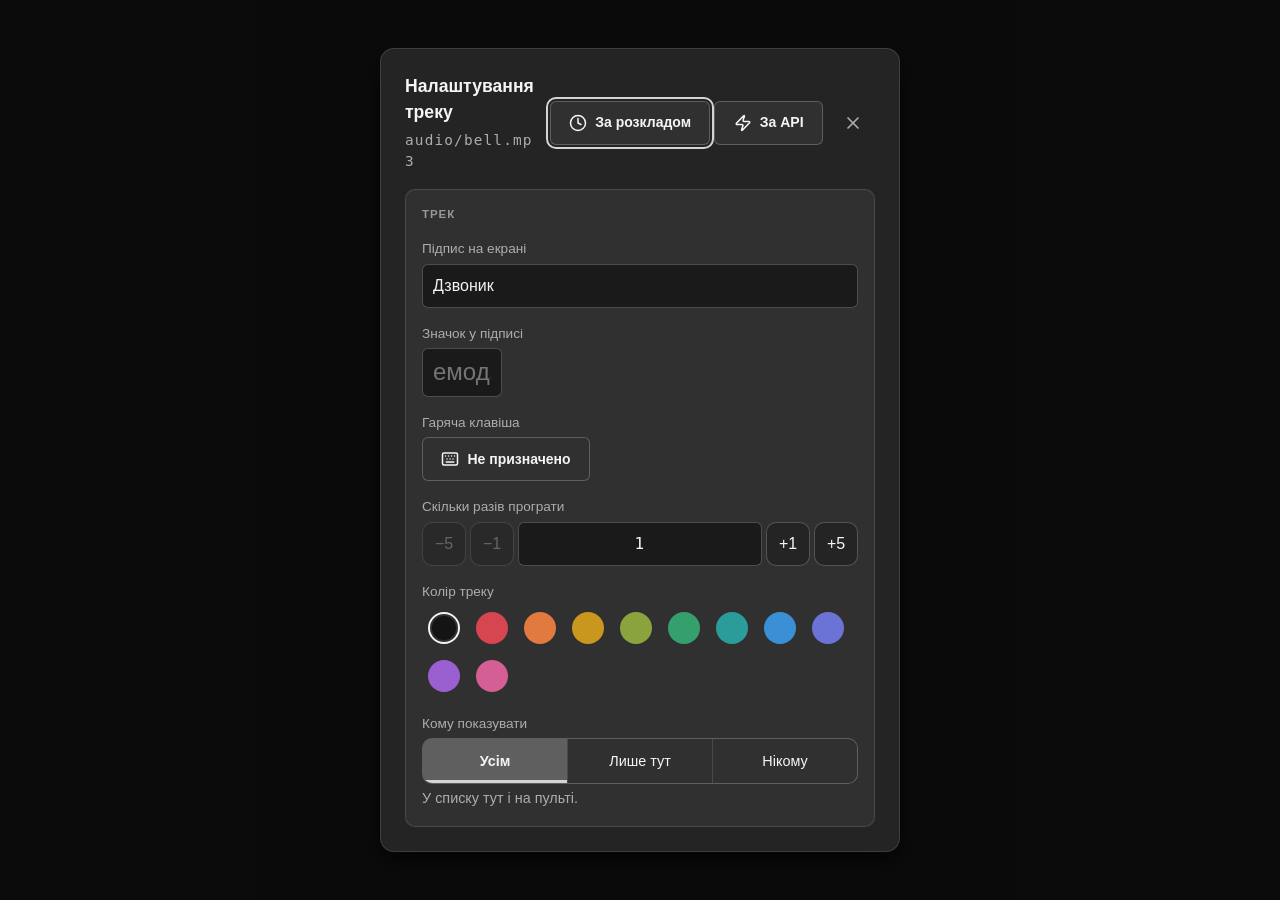
Test: TrackDialog › перемикає режим між розкладом і API через кнопки шапки
What coordinates should you click on to do the following:
click the button with test id "open-schedule-btn"
I would click on:
 (630, 123)
Its box is 550,101 -> 710,145.
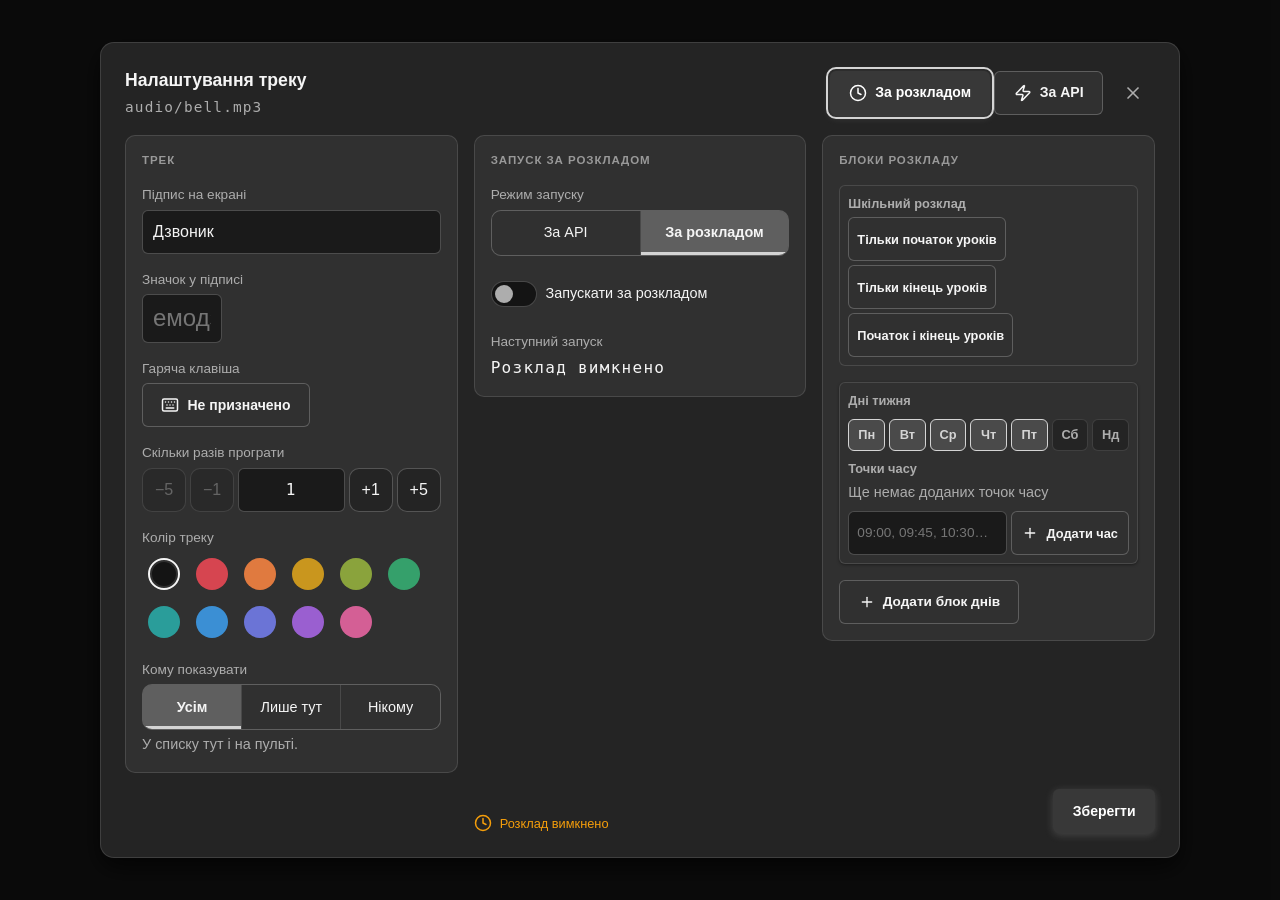
Now the element with test id "schedule-next-status" is shown, box 474,814 -> 609,832
What coordinates should you click on to do the following:
click the button with test id "open-trigger-btn"
I would click on:
 (1049, 93)
Its box is 994,71 -> 1103,115.
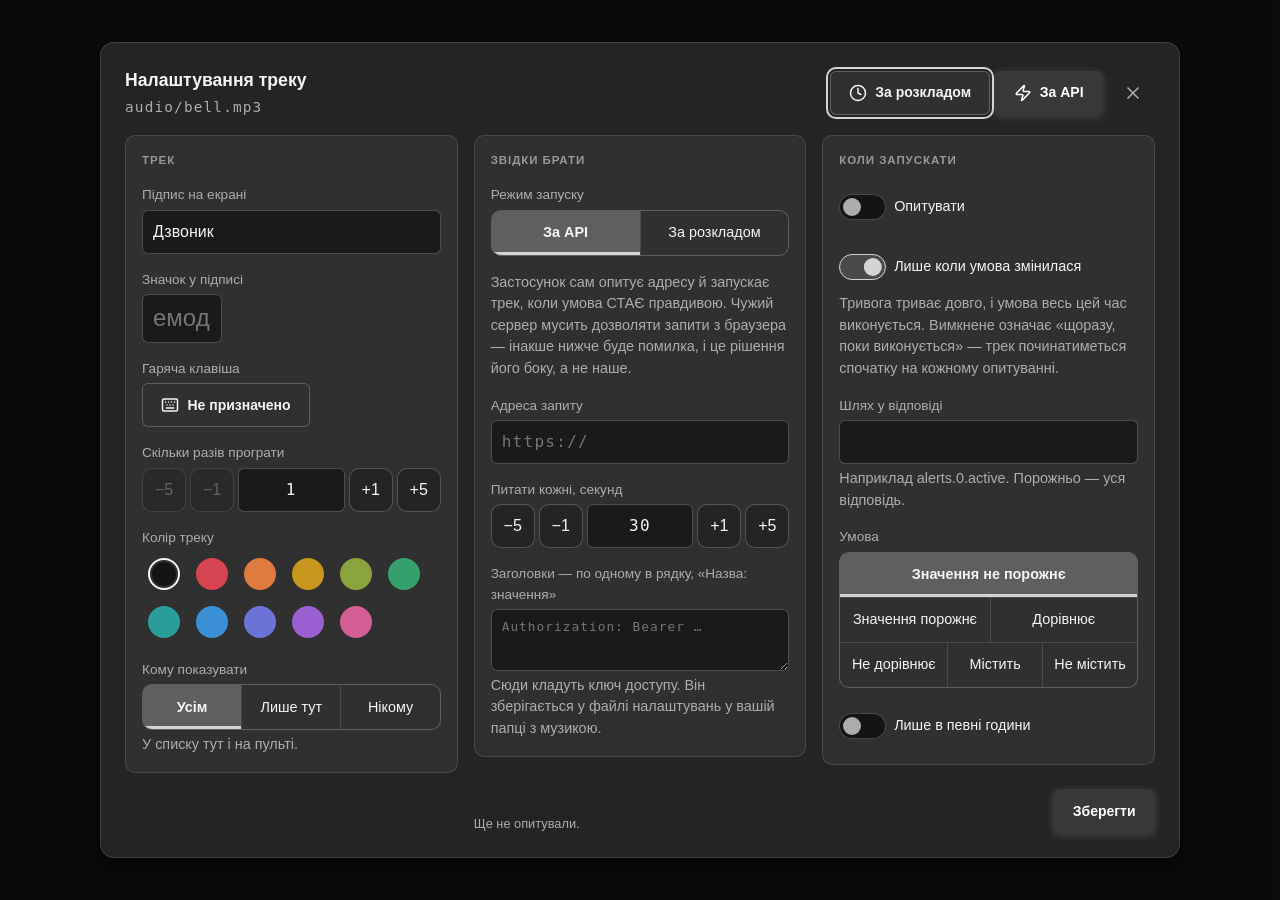
Now the field with test id "trigger-url" is shown, box 491,420 -> 789,464
